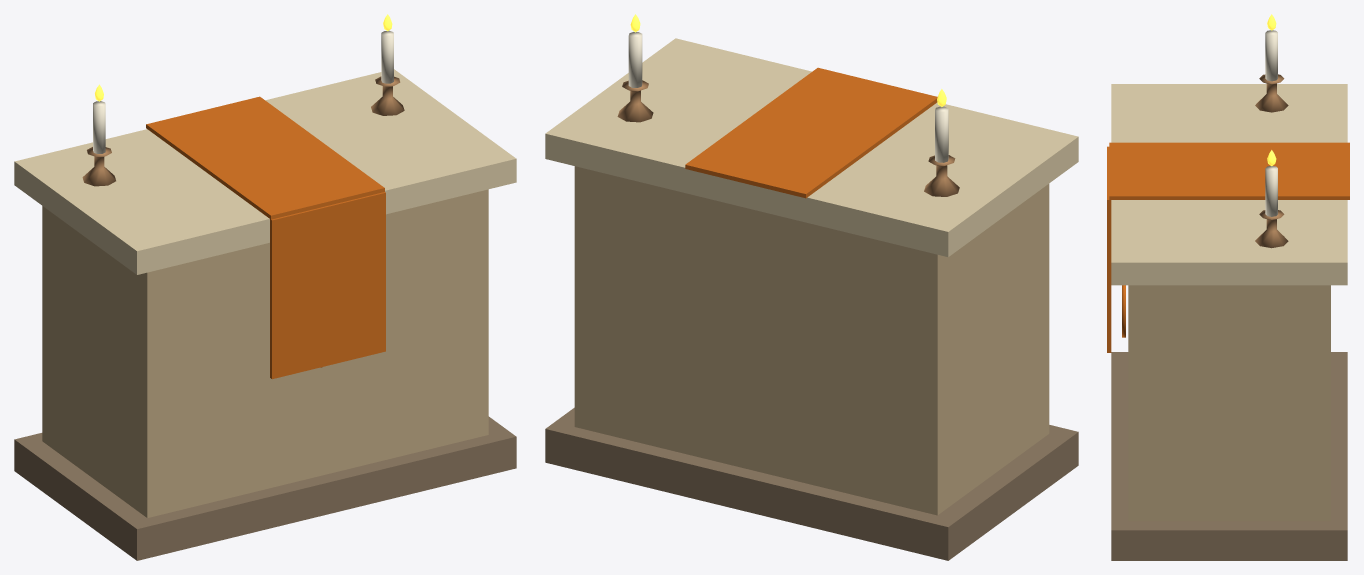
Rendered from altar_church.glb.
3 renders of one model, left to right at view 1: azimuth 30°, elevation 25°; view 2: azimuth 150°, elevation 25°; view 3: azimuth 270°, elevation 25°, orthographic. The views are drawn at different scales.
Visible parts, largest first — view 1: altar_church; view 2: altar_church; view 3: altar_church.
Boxes of the visible parts, bbox=[...] form: altar_church: bbox=[14, 14, 516, 560]; altar_church: bbox=[545, 14, 1078, 560]; altar_church: bbox=[1107, 14, 1349, 560].
Size of the model in its own units: 1 by 1.02 by 0.575.
